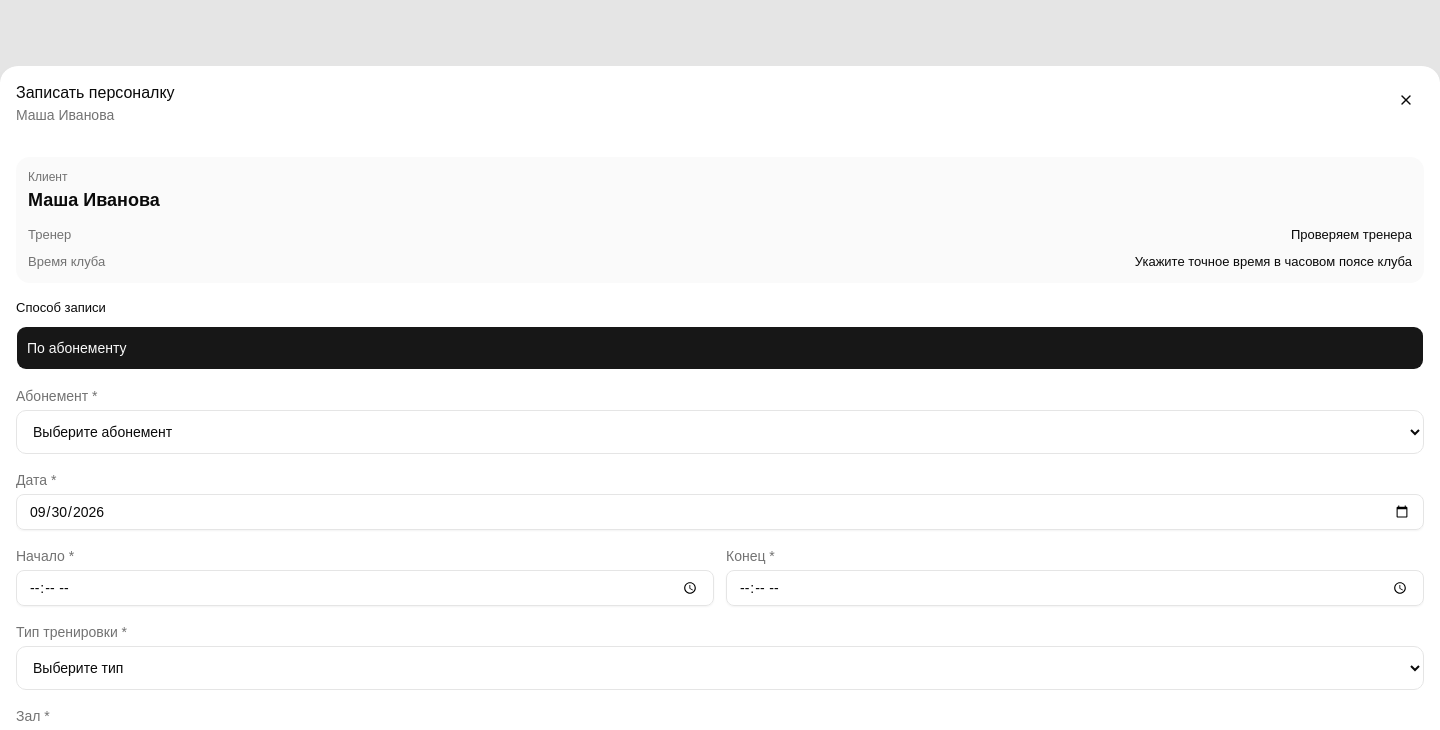
Test: PersonalBookingSheet › shows pay-at-club when the selected booking date is after subscription expiry
The image size is (1440, 730).
Expected: the button "По абонементу" is shown, [16,326,1424,370]
Type "2099-07-07" into the date field labelled "Дата *" at (720, 512), box [16,494,1424,530]
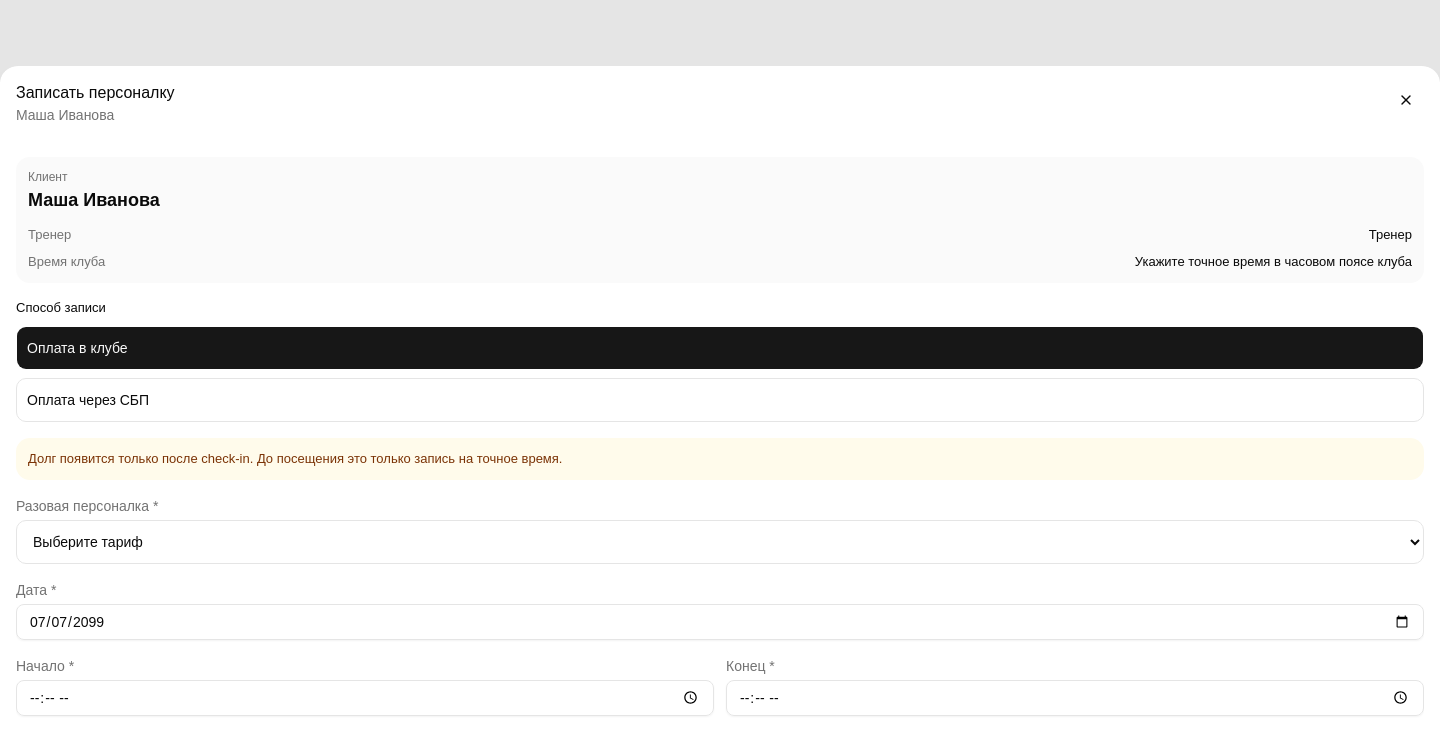
Expected: the button "По абонементу" is gone
